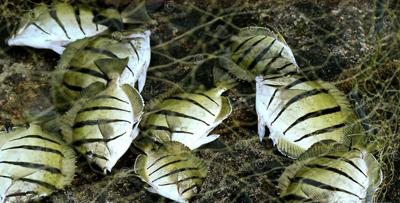Acanthuridae -Surgeonfishes-: (57, 55, 145, 177), (254, 73, 362, 163), (141, 65, 238, 151), (2, 1, 158, 54), (0, 111, 75, 202), (204, 23, 301, 83), (133, 135, 209, 201)
